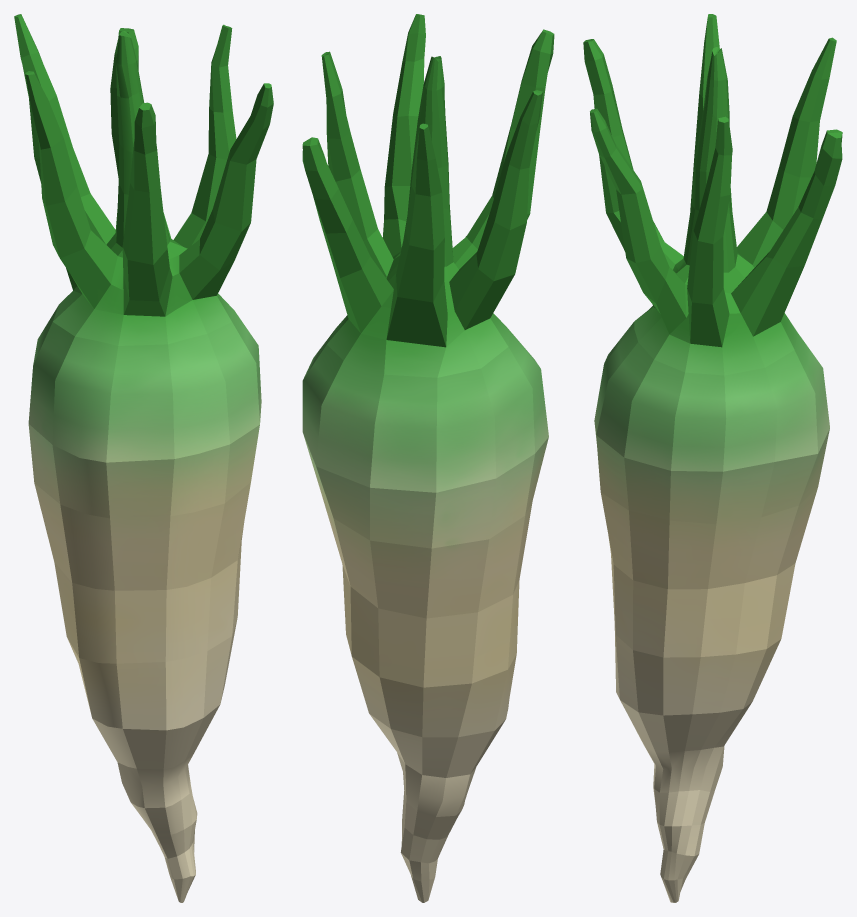
Rendered from daikon_model_LOW.fbx.
3 renders of one model, left to right at view 1: azimuth 30°, elevation 25°; view 2: azimuth 150°, elevation 25°; view 3: azimuth 270°, elevation 25°, orthographic. The views are drawn at different scales.
Visible parts, largest first — view 1: daikon_unwrapped:polySurface1; view 2: daikon_unwrapped:polySurface1; view 3: daikon_unwrapped:polySurface1.
Part boxes in pixels (x1,y1,x2,y2): daikon_unwrapped:polySurface1: (14,14,273,902); daikon_unwrapped:polySurface1: (302,14,554,902); daikon_unwrapped:polySurface1: (583,14,842,902).
Size of the model in its own units: 1.31 by 4.85 by 1.36.
Materials: 1 (1 with a texture image).
